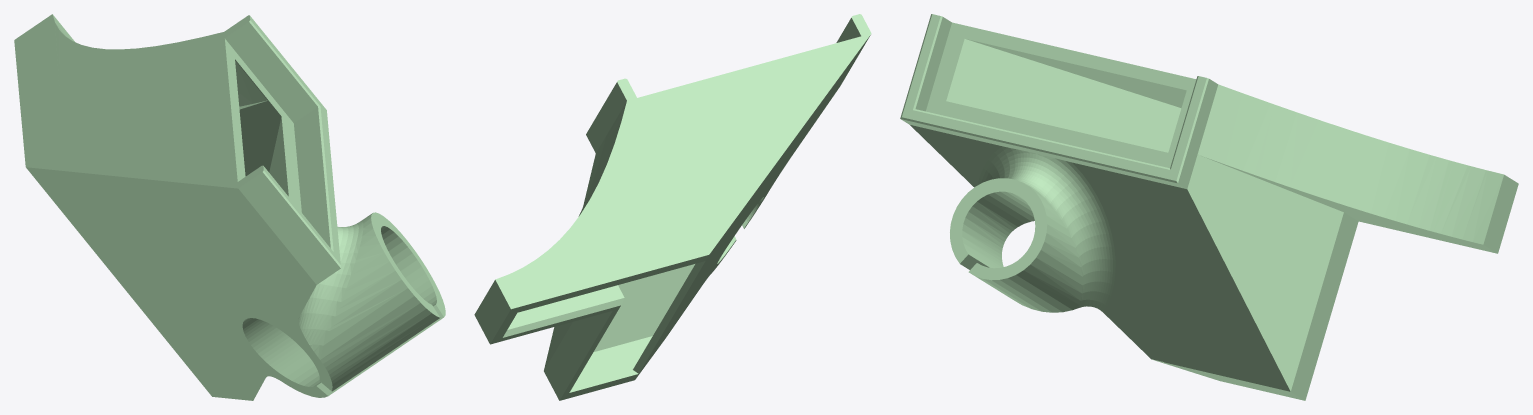
The model's file is nozzle1_0.dae.
3 renders of one model, left to right at view 1: azimuth 30°, elevation 25°; view 2: azimuth 150°, elevation 25°; view 3: azimuth 270°, elevation 25°, orthographic. The views are drawn at different scales.
Parts seen in each view (by area): view 1: nozzle1_019; view 2: nozzle1_019; view 3: nozzle1_019.
Part boxes in pixels (x1,y1,x2,y2): nozzle1_019: [14, 14, 445, 400]; nozzle1_019: [474, 14, 871, 400]; nozzle1_019: [900, 14, 1518, 400].
Bounding box in the file's own units: 0.0458 × 0.1215 × 0.069.
